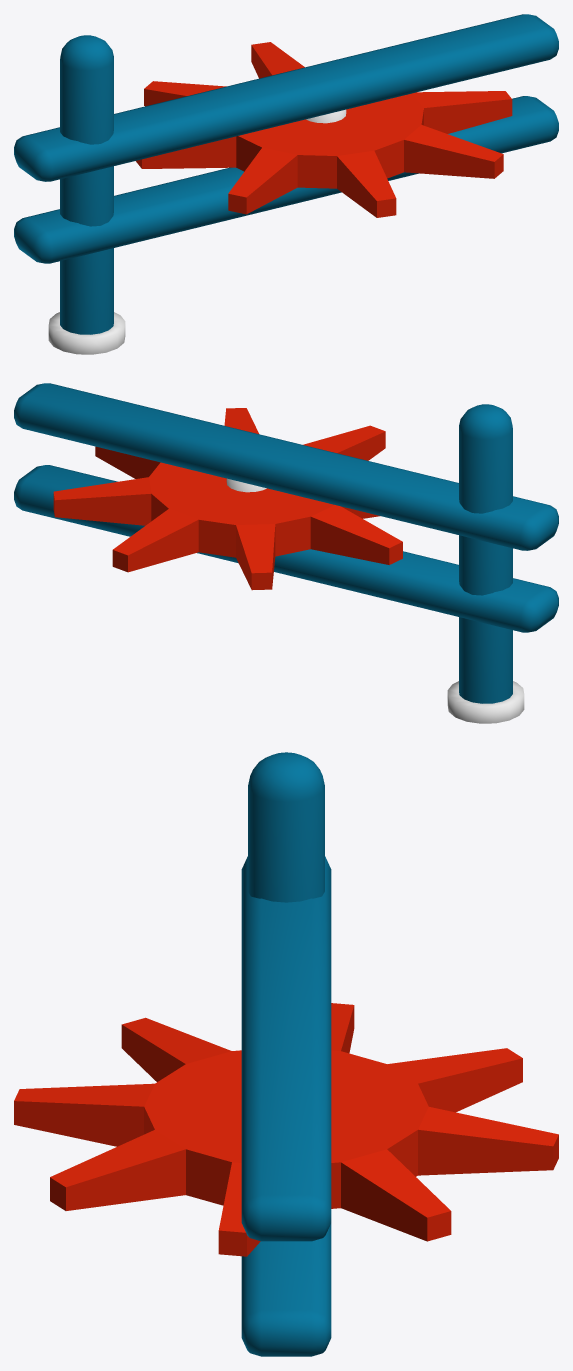
Rendered from Obs_13.fbx.
3 views of the same model, one above another, from view 1: azimuth 30°, elevation 25°; view 2: azimuth 150°, elevation 25°; view 3: azimuth 270°, elevation 25° (orthographic). The views are drawn at different scales.
Visible parts, largest first — view 1: Obs_13; view 2: Obs_13; view 3: Obs_13.
Boxes of the visible parts, x1,y1,x2,y2 form: Obs_13: [14, 14, 558, 354]; Obs_13: [14, 383, 558, 723]; Obs_13: [14, 752, 558, 1356].
Size of the model in its own units: 1.63 by 0.8879 by 1.04.
